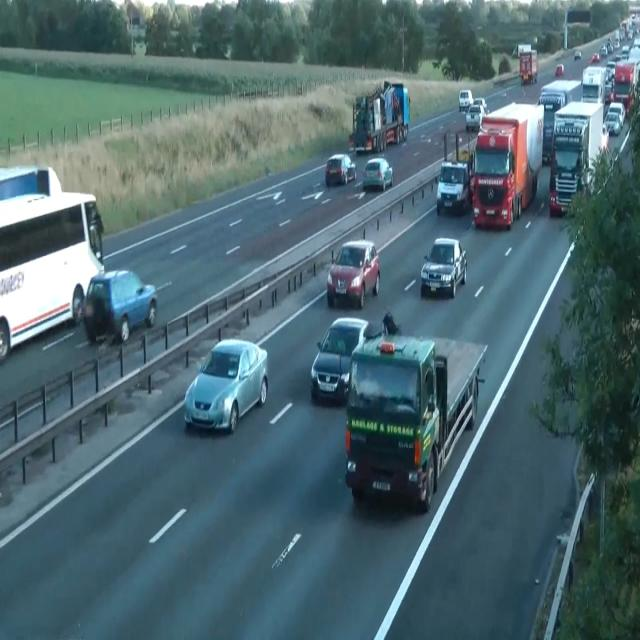bus: (184, 338, 268, 434), (82, 268, 158, 344), (310, 316, 372, 406), (326, 239, 380, 309), (421, 236, 467, 298), (324, 153, 356, 187), (362, 157, 392, 191), (465, 104, 485, 132), (603, 111, 621, 135), (608, 102, 626, 125), (459, 89, 473, 111), (473, 97, 489, 115), (600, 44, 608, 58), (590, 53, 600, 63), (556, 64, 564, 76), (512, 44, 518, 58), (574, 50, 581, 60)
jeep: (436, 159, 471, 215)
minibus: (344, 324, 488, 513), (0, 162, 104, 361), (472, 100, 544, 230), (548, 100, 610, 218), (348, 80, 411, 154), (538, 79, 582, 165), (581, 65, 613, 120), (610, 60, 638, 116), (519, 48, 538, 84)
